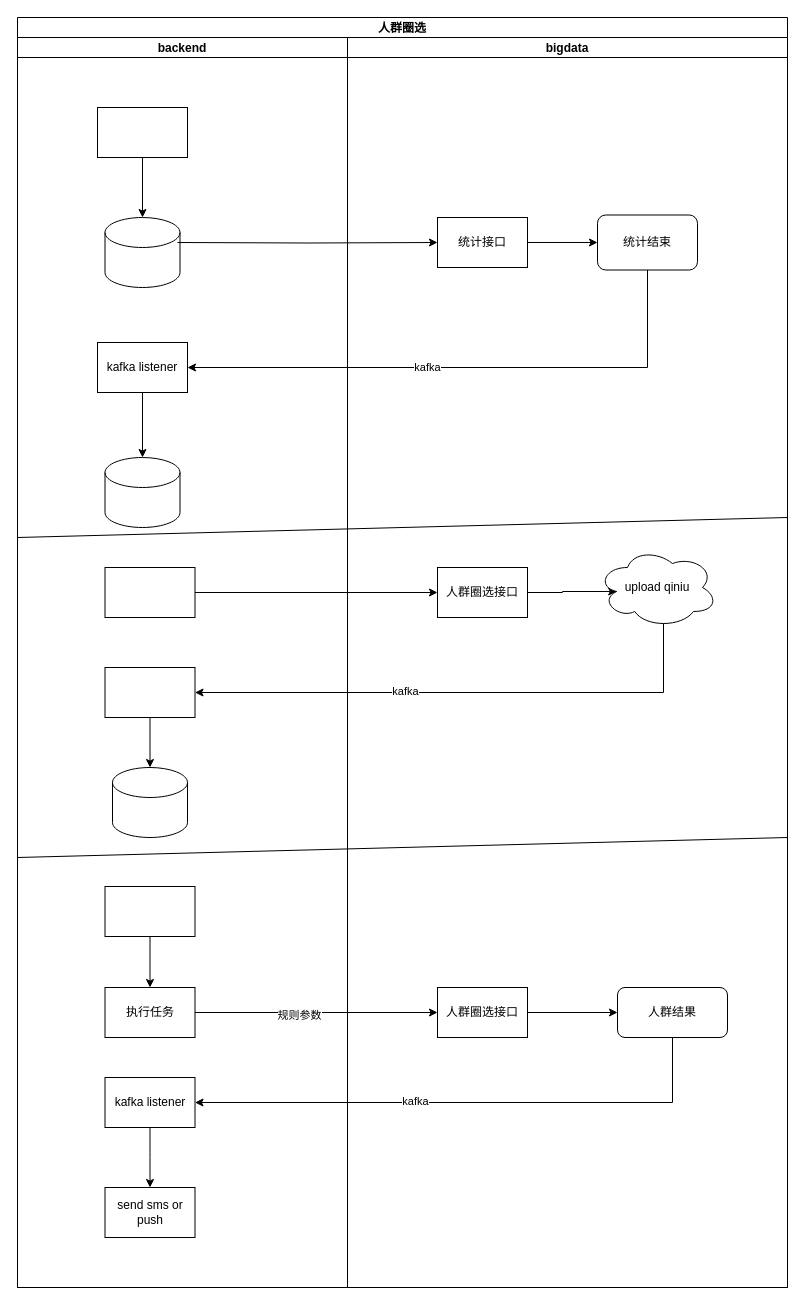
This 806x1305 diagram has some shape labels left out. Each missing label, with the centre of its shape:
"click 统计" goes at point 142,132.
"qiniu url" goes at point 149,692.
"update status=0, userNum=x" goes at point 142,492.
"update status=1" goes at point 142,252.
"update url = x" goes at point 150,802.
"推送计划" goes at point 149,911.
"生成人群包" goes at point 149,592.
